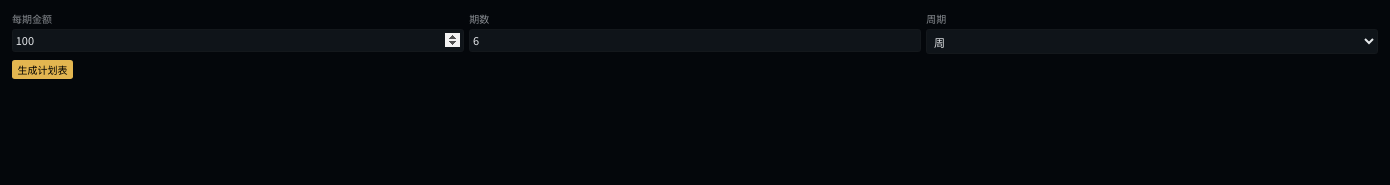
DcaPanel(DCA 定投面板) › 期数输入非数字 → 兜底为 1 行
Step 1. Replace the text in the number field labelled "期数" with "abc" → (695, 40), box [469,29,921,52]
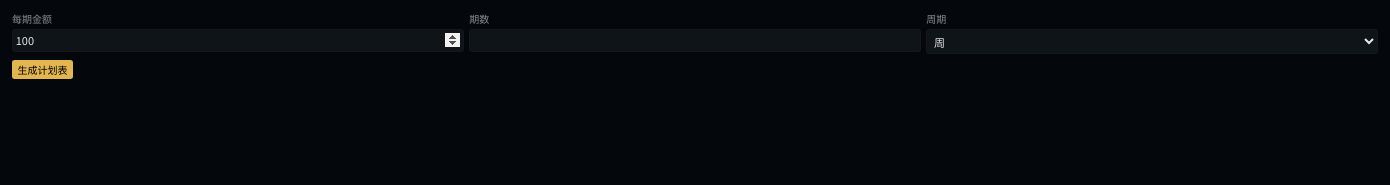
Step 2. Click the button "生成计划表" → (42, 70), box [12,60,73,79]
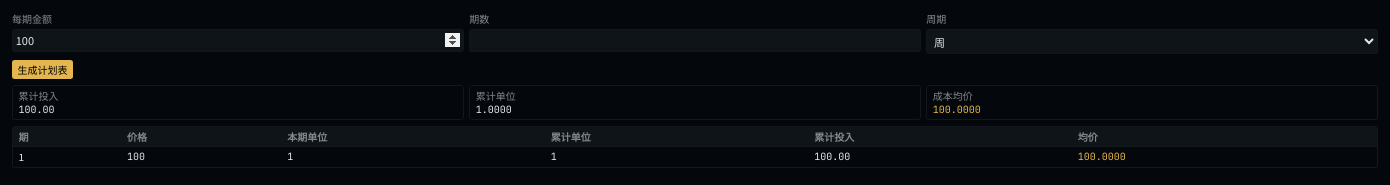
Expected: the number of rows with class "dca-row" is 1, [13,147,1377,167]
